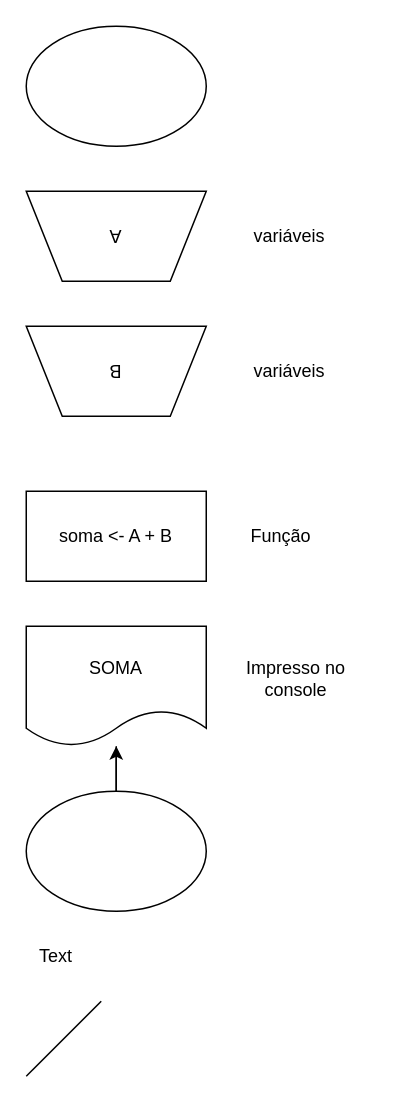
The diagram is 405 pixels wide and 1104 high, and some of its shapes have lost their labels. The centre of each missing label's shape, as x and y in pixels:
FIM: pixel 115 850
INÍCIO: pixel 115 85
